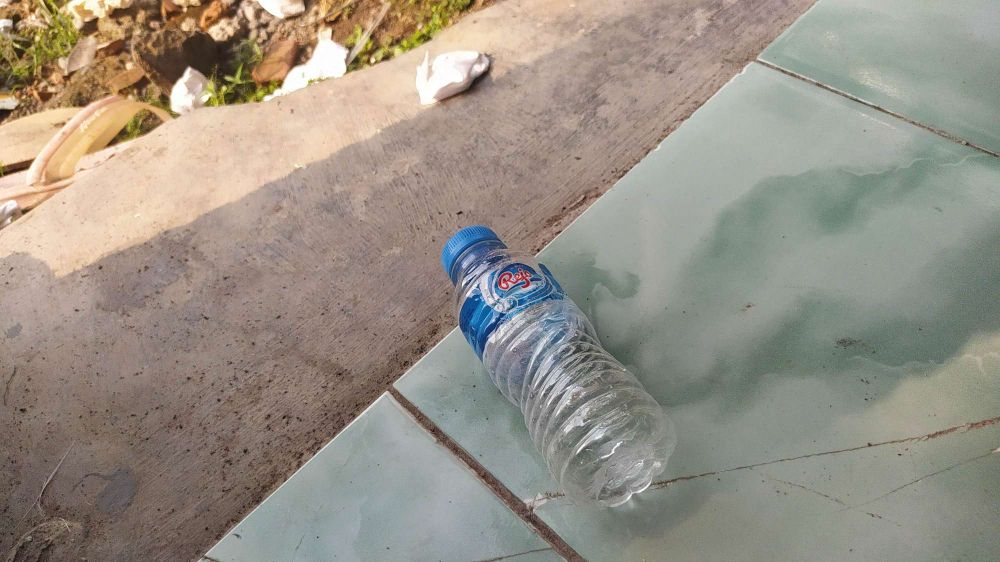botol: (439, 246, 694, 502)
